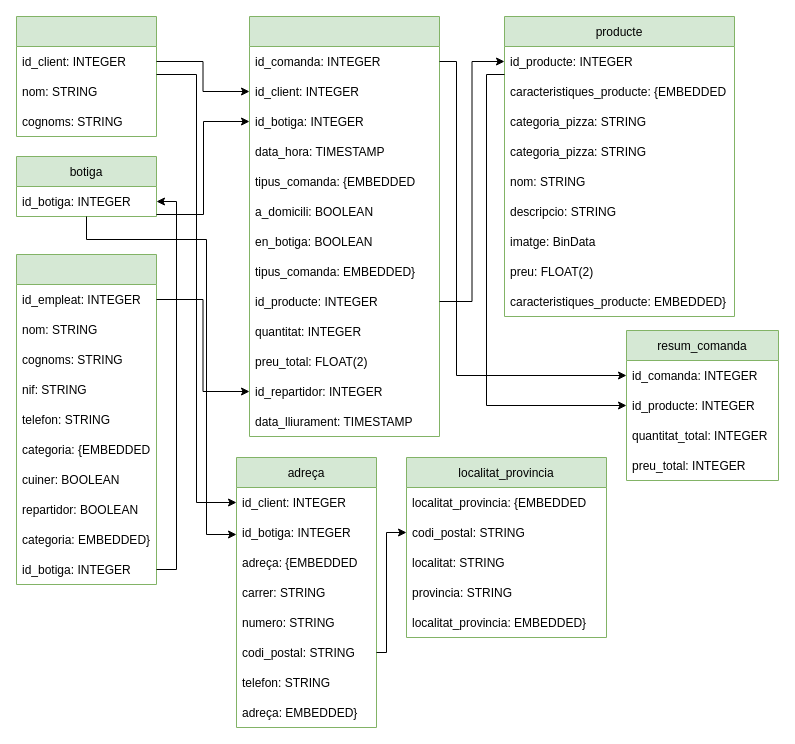
Image size: 795x744. Some labels were removed from this diagram. The shapes that lost their labels are listed below. From the top down, each one's box as (x1, y1, x2, y2) in pixels, then its label:
(16, 16, 156, 136): clients
(248, 16, 440, 436): comandes
(16, 254, 156, 584): empleats
